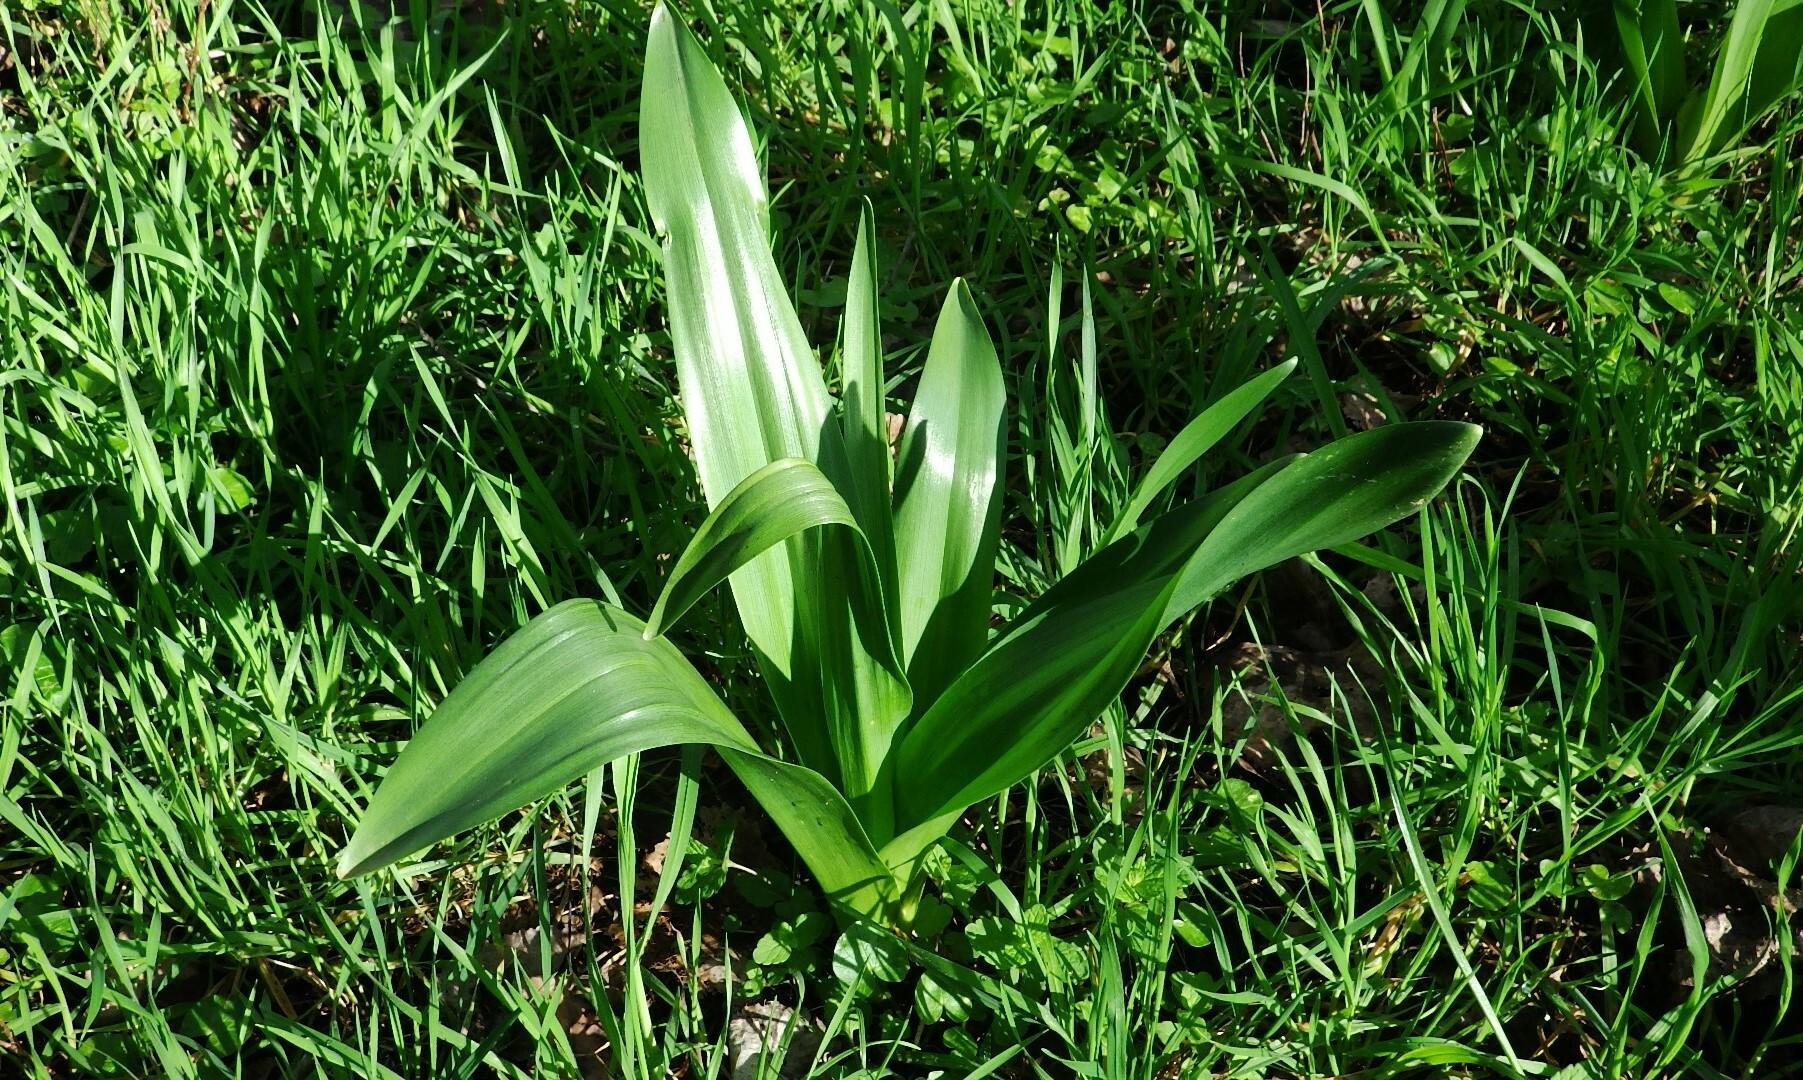Colchicum autumnale L: (519, 23, 1256, 951)
